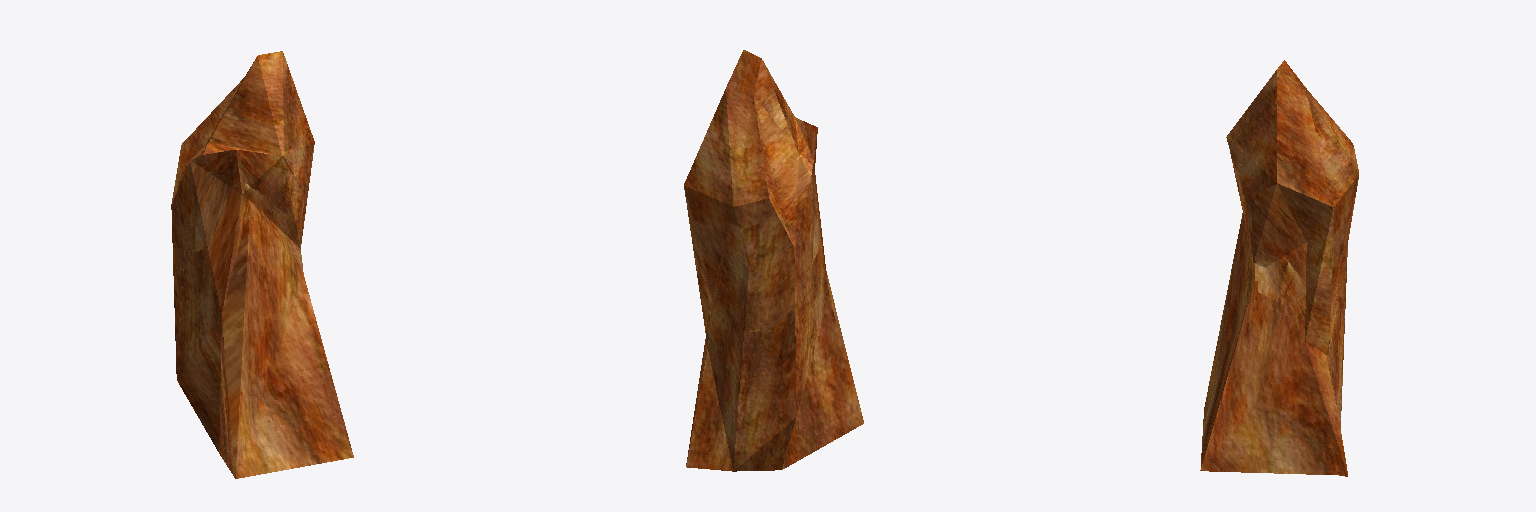
3 renders of one model, left to right at view 1: azimuth 30°, elevation 25°; view 2: azimuth 150°, elevation 25°; view 3: azimuth 270°, elevation 25°, orthographic.
Visible parts, largest first — view 1: pCube1; view 2: pCube1; view 3: pCube1.
Part boxes in pixels (x1,y1,x2,y2): pCube1: (171,51,353,478); pCube1: (684,50,863,471); pCube1: (1200,60,1358,476).
Bounding box in the file's own units: 1.67 × 5.45 × 1.97.
Materials: 1 (1 with a texture image).